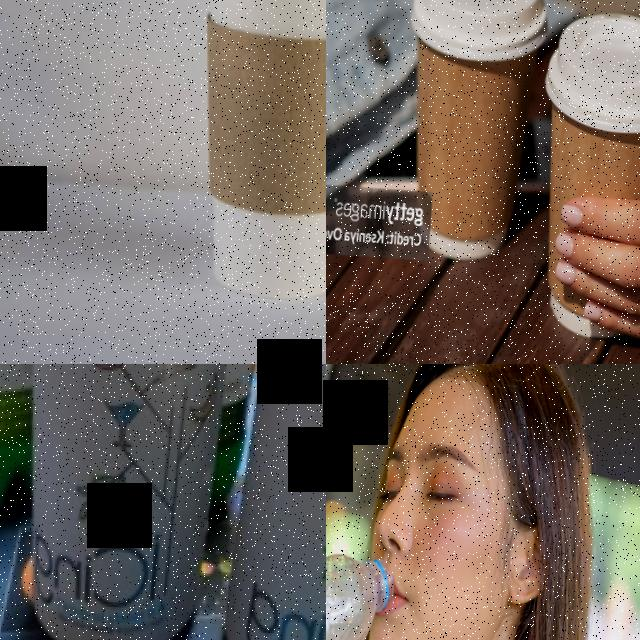can: (0, 364, 248, 640), (208, 364, 326, 640)
cup: (173, 0, 326, 305), (393, 0, 552, 267), (524, 7, 640, 343)
